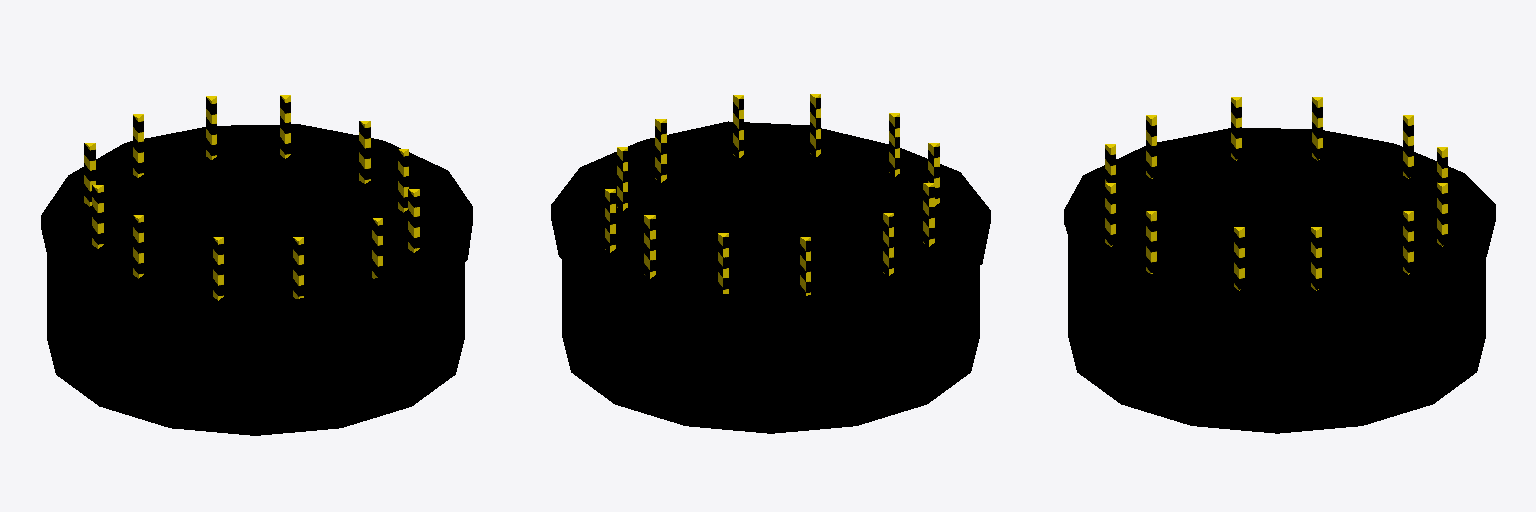
3 renders of one model, left to right at view 1: azimuth 30°, elevation 25°; view 2: azimuth 150°, elevation 25°; view 3: azimuth 270°, elevation 25°, orthographic.
Visible parts, largest first — view 1: Cake1, pCylinder1, Candle3, Candle10, Candle8, Candle6, Candle5, Candle7, Candle2, Candle1, Candle12, Candle4 (+2 smaller); view 2: Cake1, pCylinder1, Candle6, Candle9, Candle2, Candle8, Candle12, Candle7, Candle10, Candle11, Candle3, Candle5 (+2 smaller); view 3: Cake1, pCylinder1, Candle1, Candle4, Candle11, Candle8, Candle2, Candle3, Candle9, Candle6, Candle7, Candle10.
Part boxes in pixels (bbox=[...]): Cake1: bbox=[47, 146, 464, 435]; pCylinder1: bbox=[41, 124, 472, 329]; Candle3: bbox=[92, 185, 103, 248]; Candle10: bbox=[408, 189, 419, 252]; Candle8: bbox=[359, 121, 370, 183]; Candle6: bbox=[206, 96, 216, 159]; Candle5: bbox=[133, 114, 143, 177]; Candle7: bbox=[280, 95, 290, 158]; Candle2: bbox=[133, 215, 143, 278]; Candle1: bbox=[213, 237, 223, 300]; Candle12: bbox=[293, 237, 303, 298]; Candle4: bbox=[84, 143, 95, 206]; Cake1: bbox=[562, 144, 979, 433]; pCylinder1: bbox=[551, 121, 990, 323]; Candle6: bbox=[644, 215, 655, 278]; Candle9: bbox=[655, 119, 666, 182]; Candle2: bbox=[923, 183, 934, 246]; Candle8: bbox=[617, 147, 627, 210]; Candle12: bbox=[889, 113, 899, 176]; Candle7: bbox=[605, 189, 615, 252]; Candle10: bbox=[733, 95, 743, 158]; Candle11: bbox=[810, 94, 820, 157]; Candle3: bbox=[883, 213, 893, 276]; Candle5: bbox=[718, 233, 728, 293]; Cake1: bbox=[1068, 144, 1485, 433]; pCylinder1: bbox=[1064, 128, 1495, 322]; Candle1: bbox=[1146, 115, 1156, 178]; Candle4: bbox=[1403, 115, 1413, 178]; Candle11: bbox=[1105, 183, 1115, 246]; Candle8: bbox=[1311, 227, 1321, 290]; Candle2: bbox=[1231, 97, 1241, 160]; Candle3: bbox=[1312, 97, 1322, 160]; Candle9: bbox=[1234, 227, 1244, 290]; Candle6: bbox=[1437, 183, 1447, 246]; Candle7: bbox=[1403, 211, 1413, 274]; Candle10: bbox=[1146, 211, 1156, 273].
Bounding box in the file's own units: 4.67 × 2.1 × 4.59.
2 materials, 1 textured.